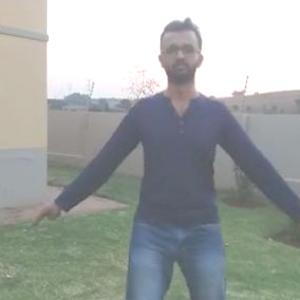land: (40, 21, 299, 299)
